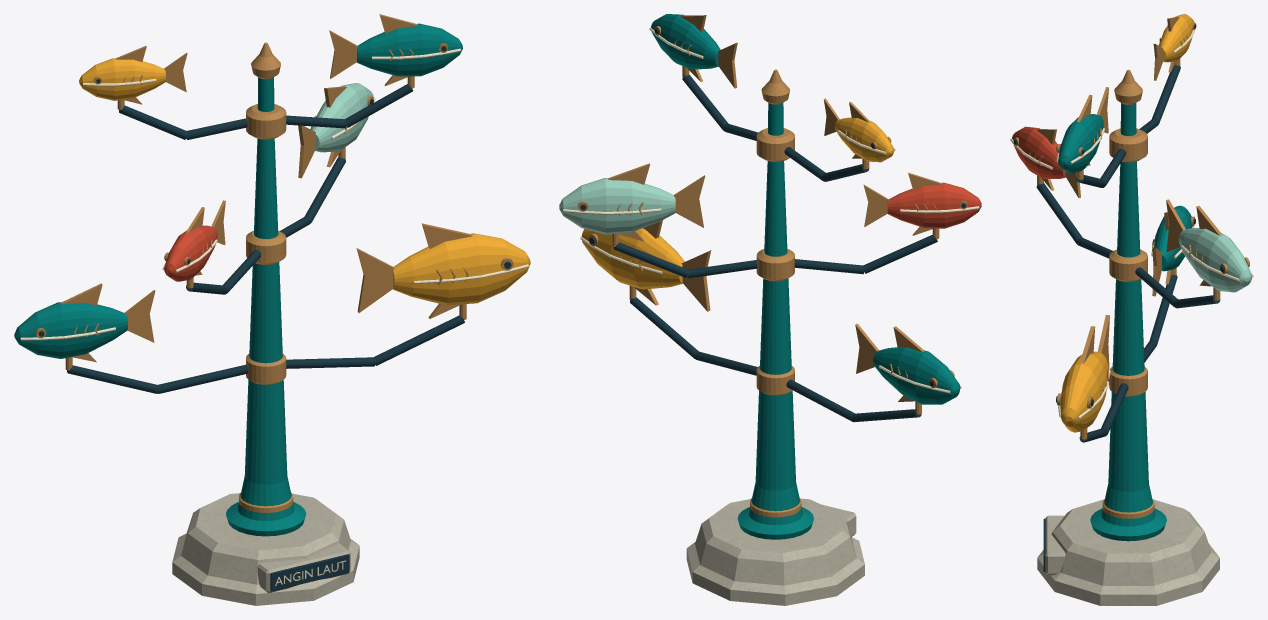
The picture shows the model from 3 angles, left to right: view 1: azimuth 30°, elevation 25°; view 2: azimuth 150°, elevation 25°; view 3: azimuth 270°, elevation 25°; orthographic projection. The views are drawn at different scales.
Visible parts, largest first — view 1: Enamel fish bodies, Socket and mast, Waterfront pedestal, Curved balance yards, Folded fins, Free bearing sleeves, Brass lateral lines, Dedication plate, Cast inscription boss, Mast finial; view 2: Enamel fish bodies, Waterfront pedestal, Socket and mast, Curved balance yards, Folded fins, Free bearing sleeves, Brass lateral lines, Mast finial; view 3: Waterfront pedestal, Socket and mast, Enamel fish bodies, Curved balance yards, Folded fins, Free bearing sleeves, Brass lateral lines, Cast inscription boss, Mast finial, Mast brightwork, Eye collars, Axle tang.
Part boxes in pixels (bbox=[...]): Enamel fish bodies: bbox=[14, 23, 530, 358]; Socket and mast: bbox=[226, 77, 306, 536]; Waterfront pedestal: bbox=[172, 493, 359, 605]; Curved balance yards: bbox=[67, 84, 464, 393]; Folded fins: bbox=[61, 14, 472, 362]; Free bearing sleeves: bbox=[246, 104, 286, 384]; Brass lateral lines: bbox=[20, 48, 528, 340]; Dedication plate: bbox=[270, 554, 349, 591]; Cast inscription boss: bbox=[257, 544, 350, 592]; Mast finial: bbox=[251, 42, 280, 79]; Enamel fish bodies: bbox=[559, 14, 981, 404]; Waterfront pedestal: bbox=[686, 498, 864, 605]; Socket and mast: bbox=[737, 103, 813, 539]; Curved balance yards: bbox=[614, 74, 937, 422]; Folded fins: bbox=[608, 15, 942, 401]; Free bearing sleeves: bbox=[756, 128, 794, 395]; Brass lateral lines: bbox=[563, 27, 979, 393]; Mast finial: bbox=[761, 69, 789, 104]; Waterfront pedestal: bbox=[1037, 499, 1219, 605]; Socket and mast: bbox=[1090, 103, 1166, 541]; Enamel fish bodies: bbox=[1012, 14, 1251, 432]; Curved balance yards: bbox=[1036, 65, 1220, 442]; Folded fins: bbox=[1036, 16, 1222, 369]; Free bearing sleeves: bbox=[1109, 128, 1147, 396]; Brass lateral lines: bbox=[1010, 24, 1253, 419]; Cast inscription boss: bbox=[1045, 515, 1065, 575]; Mast finial: bbox=[1114, 69, 1142, 104]; Mast brightwork: bbox=[1102, 499, 1154, 518]; Eye collars: bbox=[1013, 22, 1249, 408]; Axle tang: bbox=[1037, 58, 1220, 439].
Bounding box in the file's own units: 2.96 × 3.38 × 1.44.
Materials: 8 (1 with a texture image).
